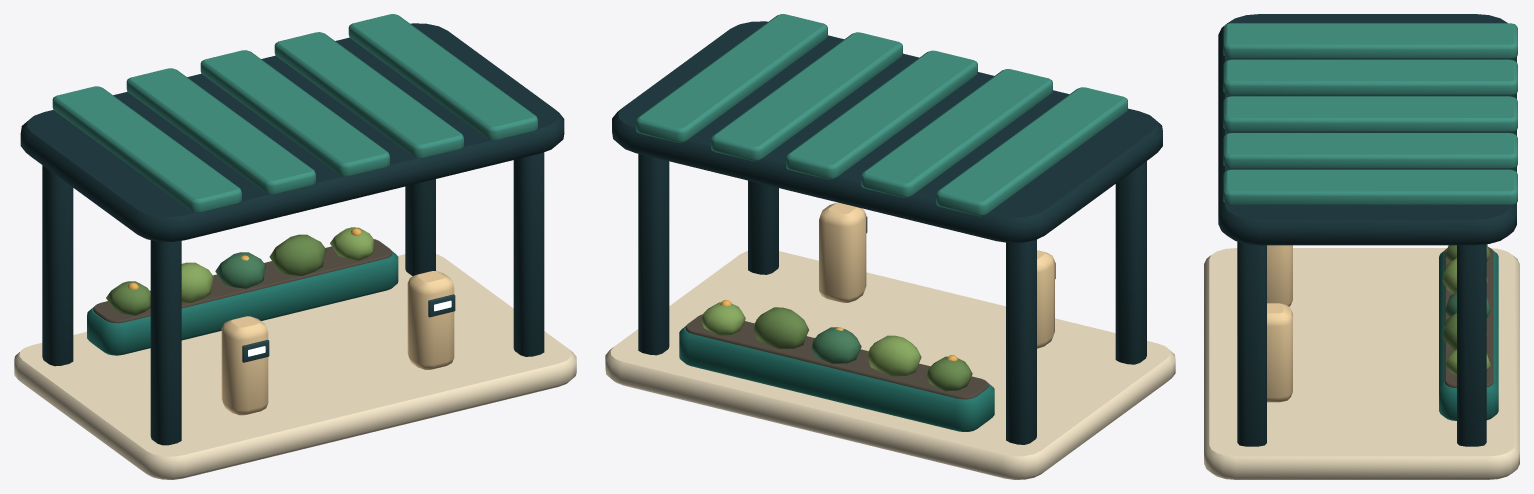
File: stage_4.glb
3 views of the same model, side by side, from view 1: azimuth 30°, elevation 25°; view 2: azimuth 150°, elevation 25°; view 3: azimuth 270°, elevation 25° (orthographic).
Parts seen in each view (by area): view 1: Stage_4; view 2: Stage_4; view 3: Stage_4.
Part boxes in pixels (box(x1,y1,x2,y2)): Stage_4: box(14, 14, 576, 479); Stage_4: box(605, 14, 1175, 479); Stage_4: box(1204, 14, 1519, 479).
Size of the model in its own units: 5.23 by 3.1 by 3.28.
